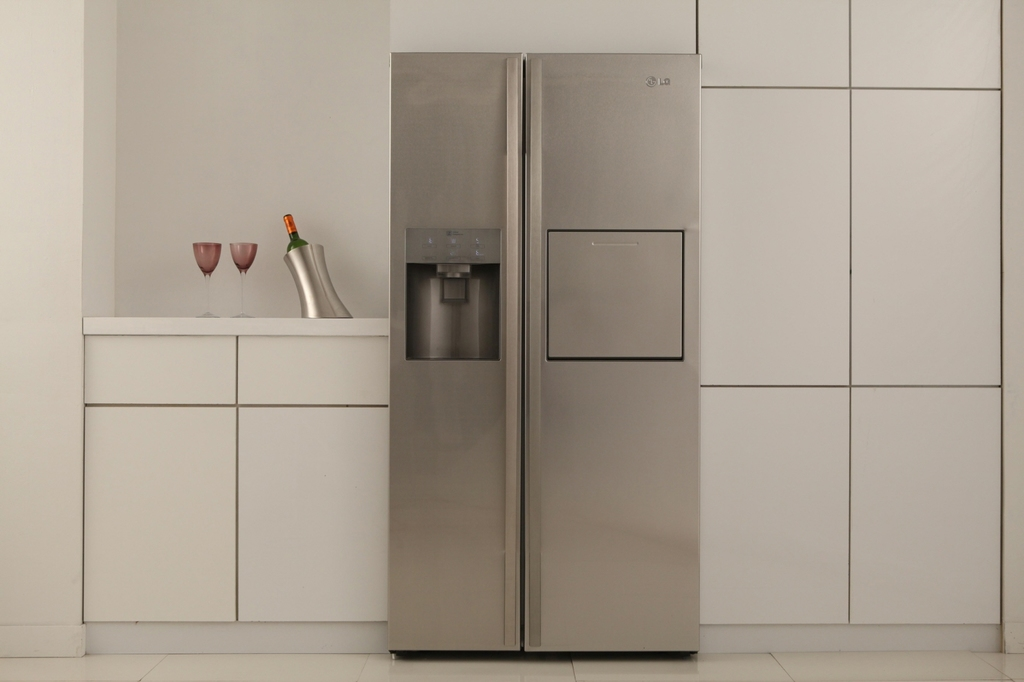cabinet door: (702, 90, 854, 387), (850, 92, 1003, 386), (694, 389, 847, 618), (855, 387, 1002, 623), (86, 409, 236, 628), (238, 411, 387, 626), (847, 8, 998, 91), (700, 9, 852, 86), (87, 340, 237, 408), (236, 339, 388, 405)
handle: (499, 61, 525, 652), (526, 60, 545, 652)
refrigerator door: (534, 53, 700, 649), (394, 49, 518, 653)
